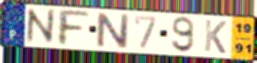7: (133, 15, 158, 51)
9: (170, 15, 196, 54)
F: (56, 8, 91, 48)
K: (203, 18, 228, 55)
N: (95, 11, 130, 50), (25, 8, 57, 45)
